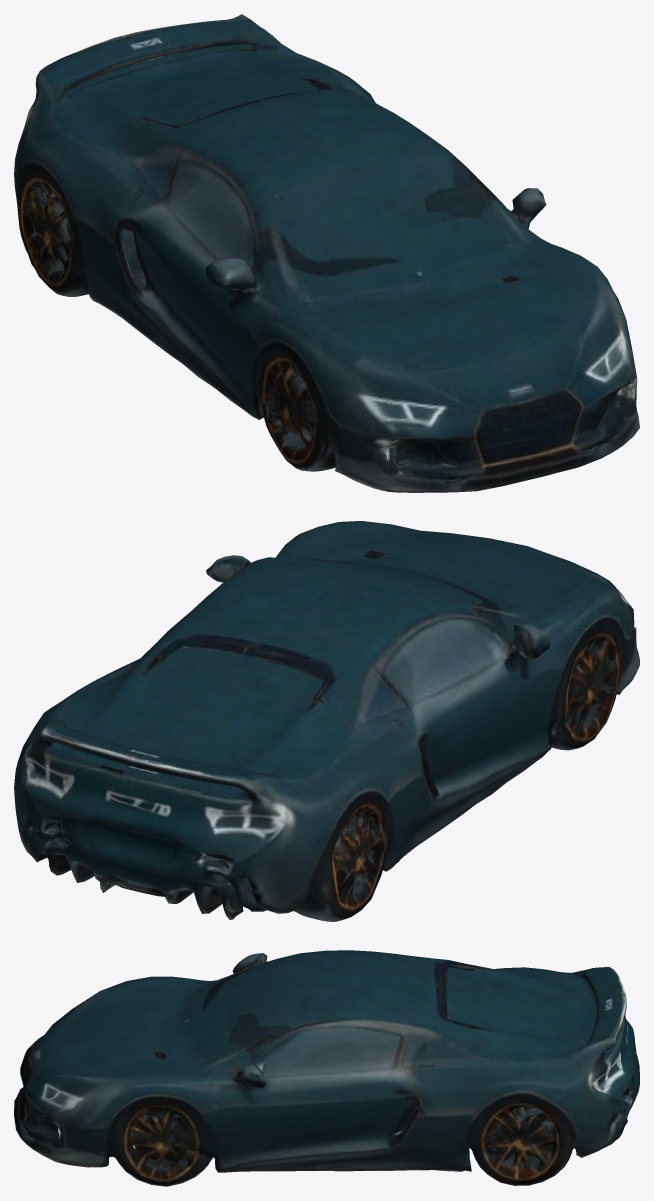
File: dk-meshy-vibranium.glb
The picture shows the model from 3 angles, top to bottom: view 1: azimuth 30°, elevation 25°; view 2: azimuth 150°, elevation 25°; view 3: azimuth 270°, elevation 25°; orthographic projection. The views are drawn at different scales.
Size of the model in its own units: 0.931 by 0.5551 by 1.99.
1 material, 1 textured.
